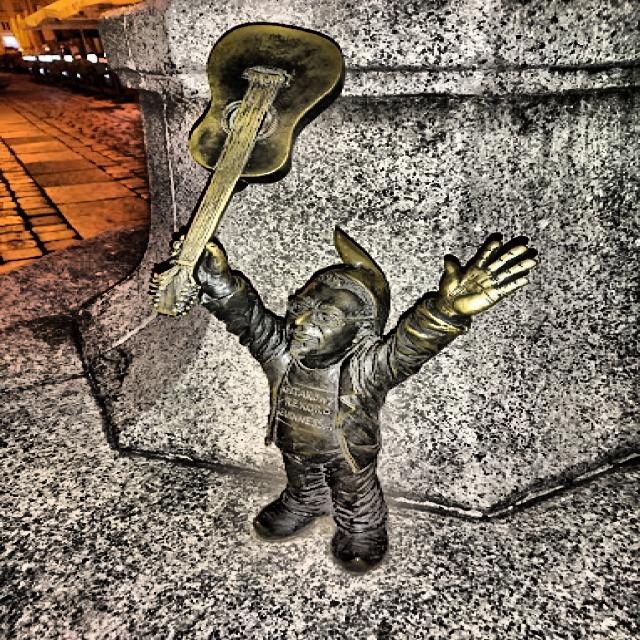Leszko_z_Wroclawia: (149, 23, 539, 575)
